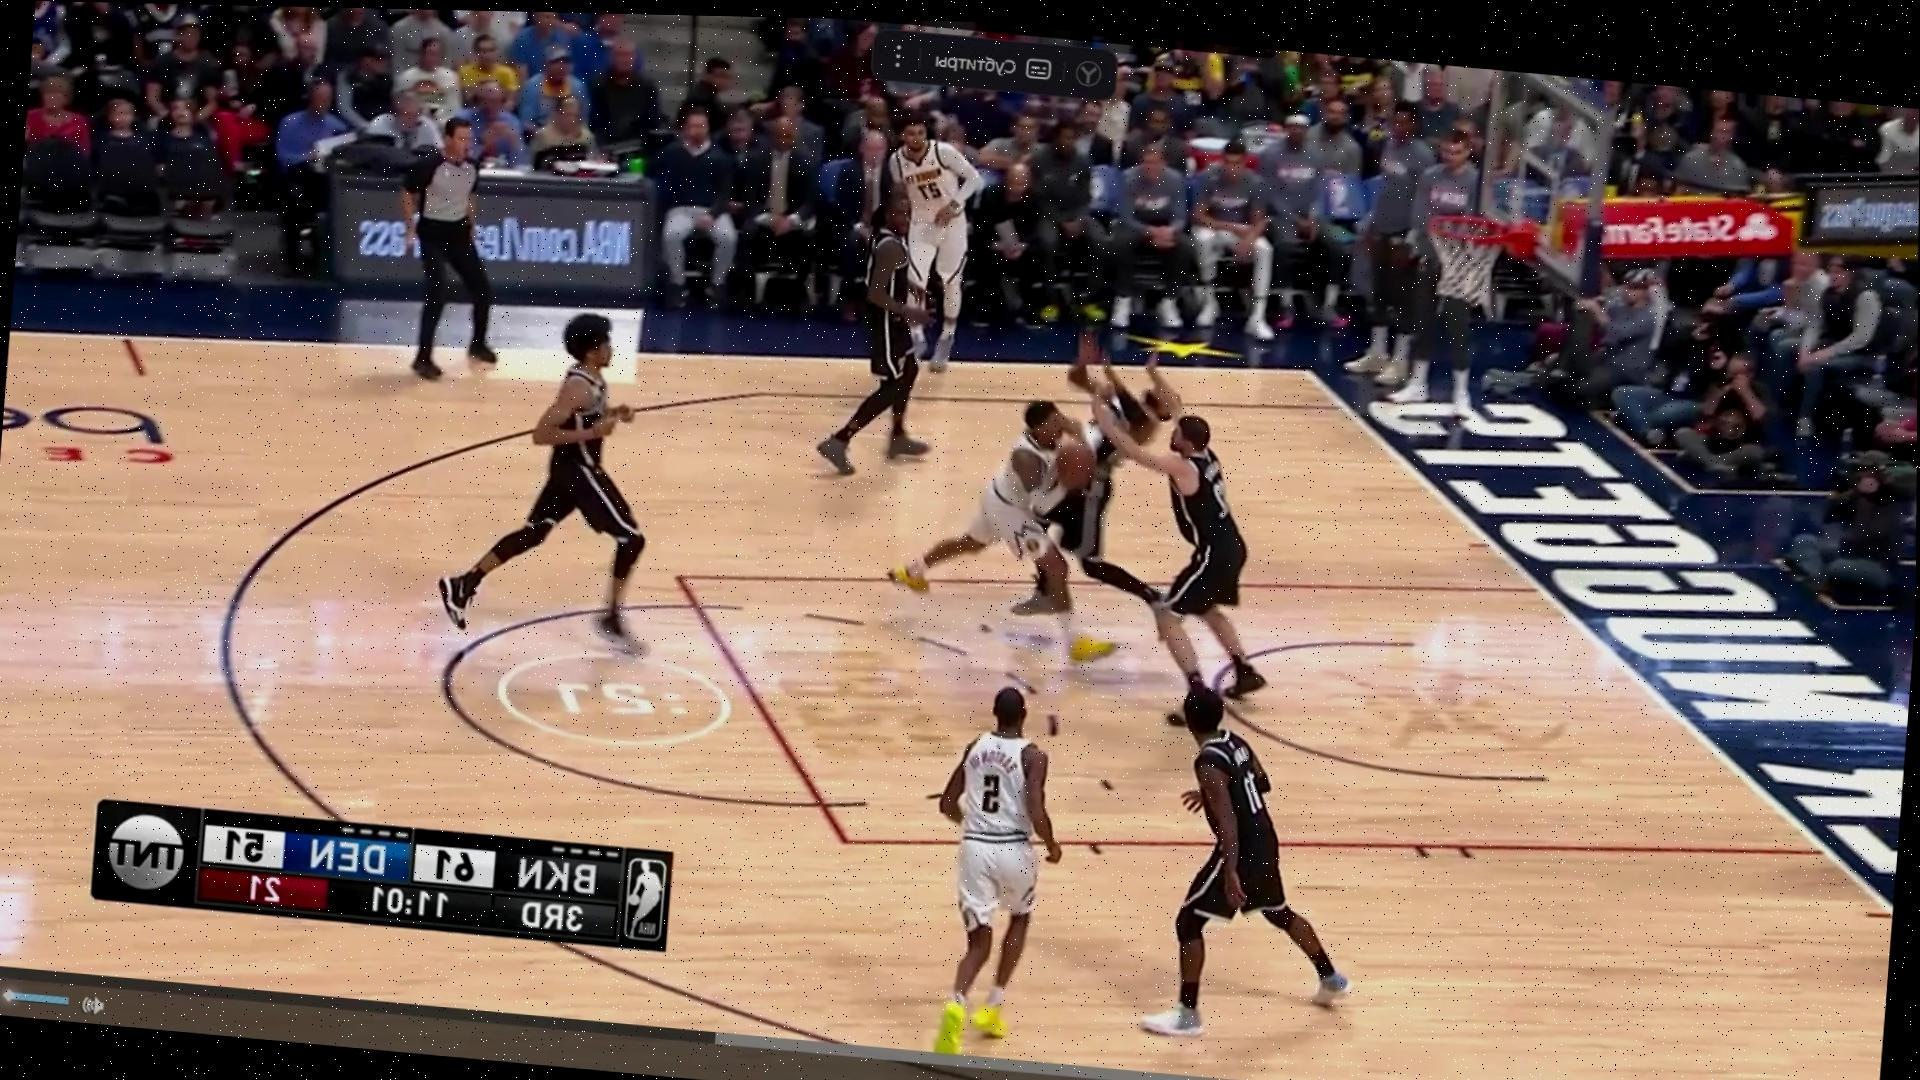foul: (903, 320, 1178, 654)
